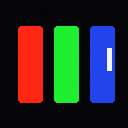4 line_v: (107, 48, 111, 70)
